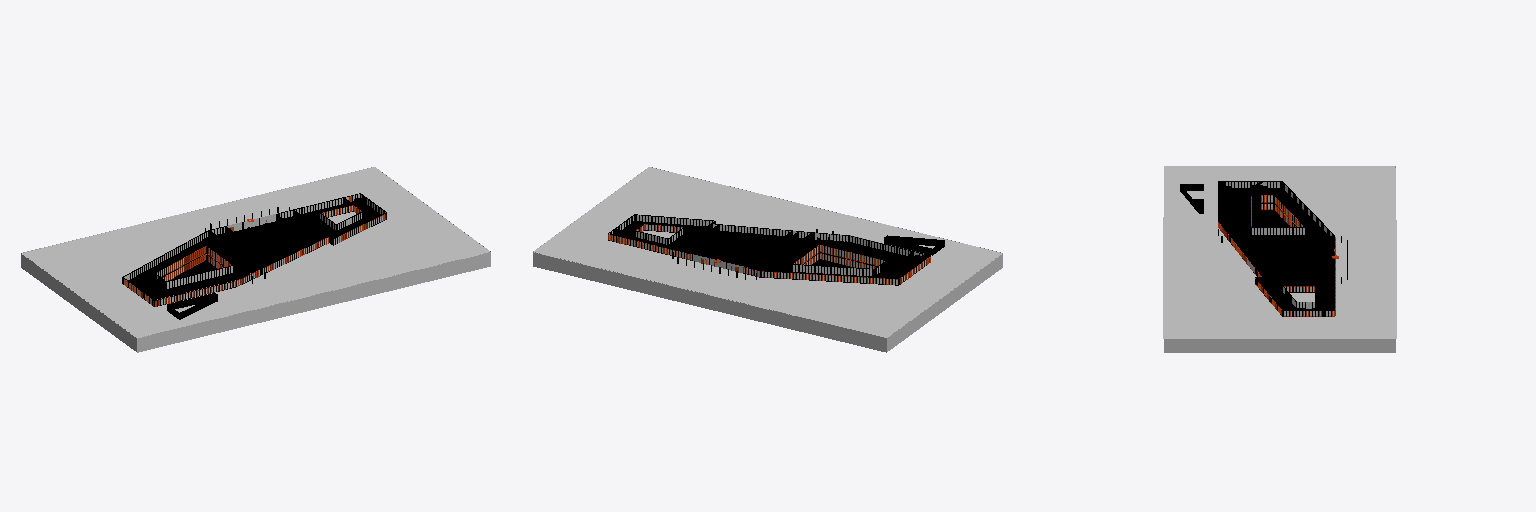
File: zero.obj
3 views of the same model, side by side, from view 1: azimuth 30°, elevation 25°; view 2: azimuth 150°, elevation 25°; view 3: azimuth 270°, elevation 25° (orthographic).
Parts seen in each view (by area): view 1: Plane.001, boxhide, IfcSlab/DE_STB_28cm, IfcSlab/DE_STB_22cm, IfcFooting/SO_STB_30cm_Sohlplatte.001; view 2: Plane.001, boxhide, IfcSlab/DE_STB_28cm, IfcSlab/DE_STB_22cm; view 3: Plane.001, boxhide, IfcSlab/DE_STB_28cm, IfcSlab/DE_STB_22cm, IfcFooting/SO_STB_30cm_Sohlplatte.001.
Boxes of the visible parts, x1=… form: Plane.001: x1=22, y1=167, x2=489, y2=337; boxhide: x1=21, y1=167, x2=490, y2=352; IfcSlab/DE_STB_28cm: x1=130, y1=238, x2=253, y2=297; IfcSlab/DE_STB_22cm: x1=216, y1=218, x2=316, y2=269; IfcFooting/SO_STB_30cm_Sohlplatte.001: x1=302, y1=204, x2=379, y2=237; Plane.001: x1=534, y1=167, x2=1001, y2=337; boxhide: x1=533, y1=167, x2=1002, y2=352; IfcSlab/DE_STB_28cm: x1=771, y1=241, x2=918, y2=277; IfcSlab/DE_STB_22cm: x1=684, y1=232, x2=804, y2=269; Plane.001: x1=1163, y1=166, x2=1396, y2=338; boxhide: x1=1164, y1=166, x2=1395, y2=352; IfcSlab/DE_STB_28cm: x1=1219, y1=189, x2=1326, y2=242; IfcSlab/DE_STB_22cm: x1=1244, y1=243, x2=1334, y2=284; IfcFooting/SO_STB_30cm_Sohlplatte.001: x1=1263, y1=285, x2=1334, y2=309.
Size of the model in its own units: 158 by 9.47 by 90.32.